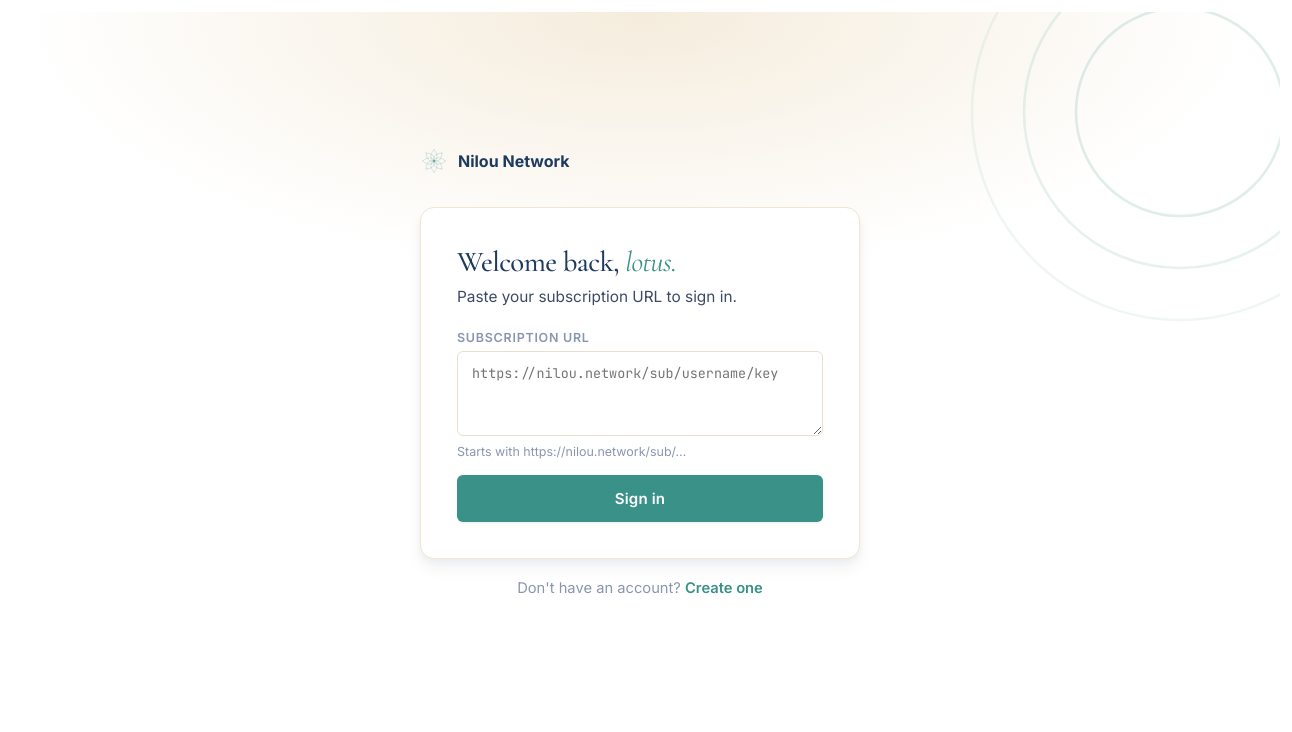
Test case: LoginPage submit flow › shows generic message when fetch throws (offline)
In the text box with placeholder "https://nilou.network/sub/username/key": (640, 394) [457,351,823,436], type "https://nilou.cc/sub/cust_alice/abc123"
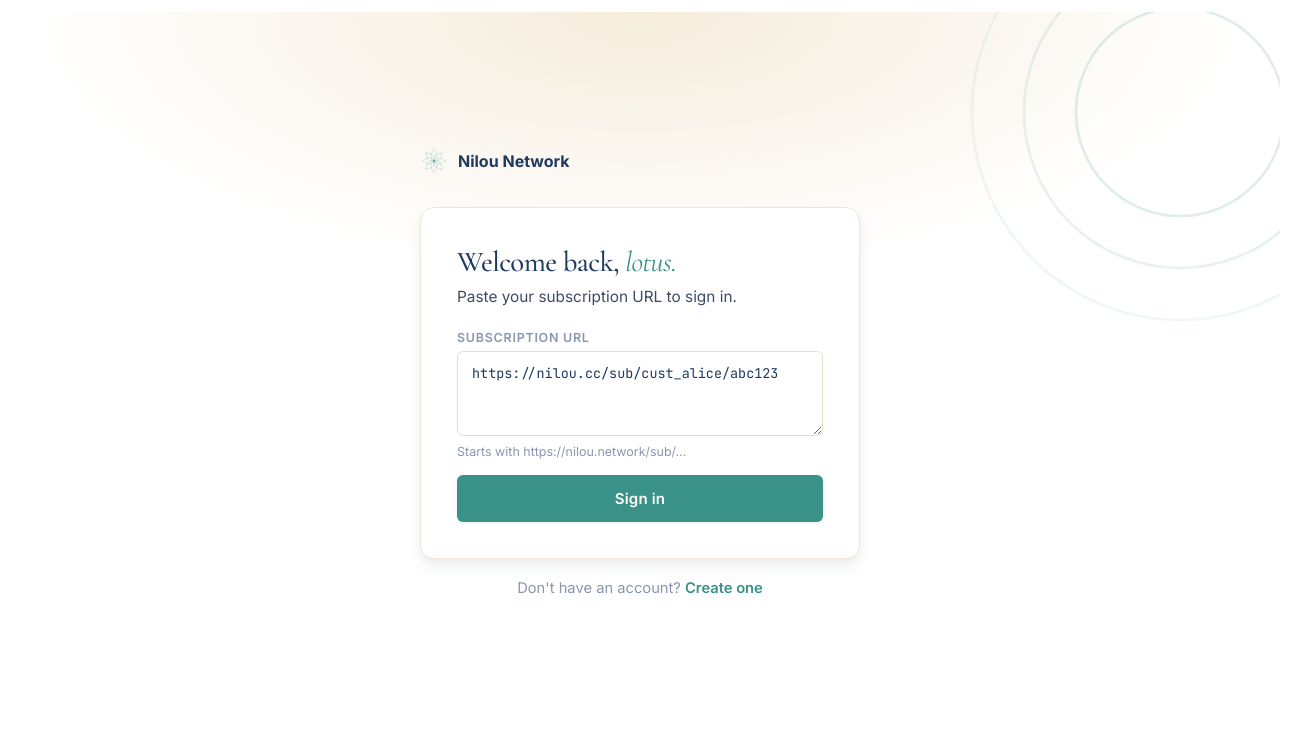
Click the button "Sign in": (640, 498) [457,475,823,522]
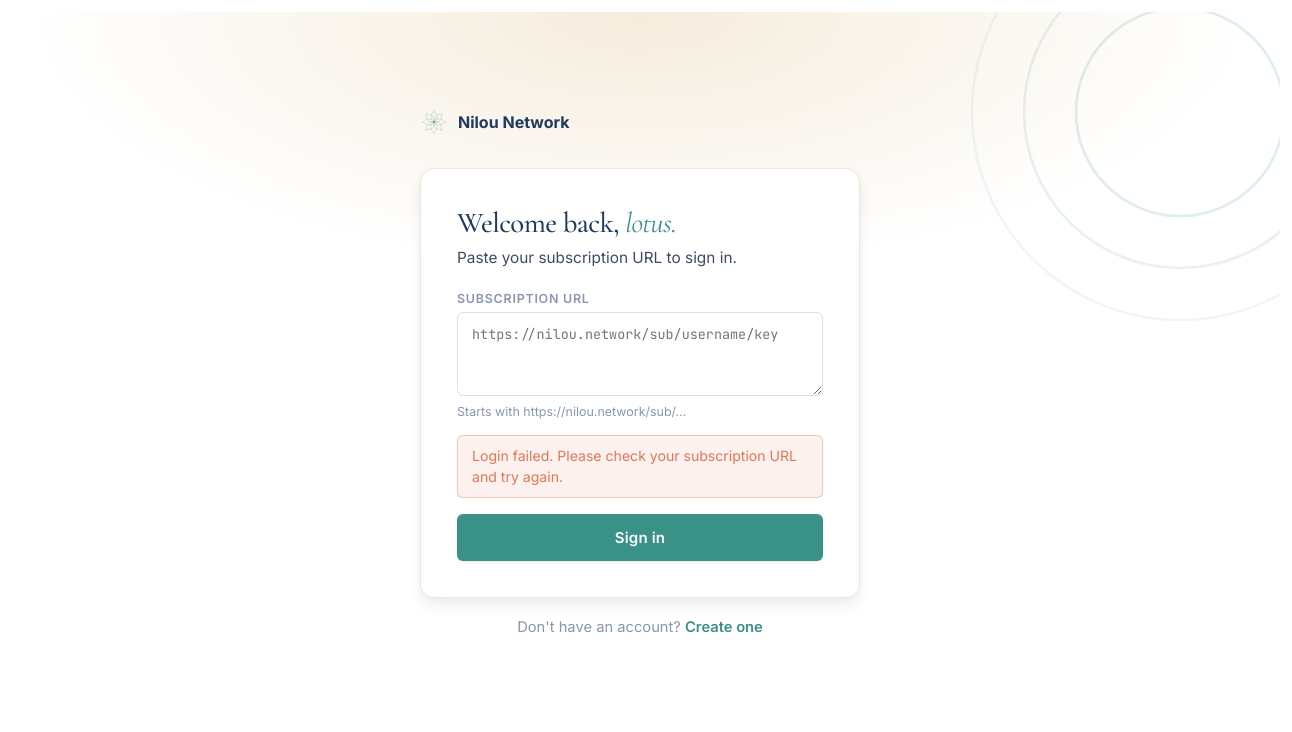
Result: the message "Login failed. Please check your subscription URL and try again." is shown at [457,435,823,498]
